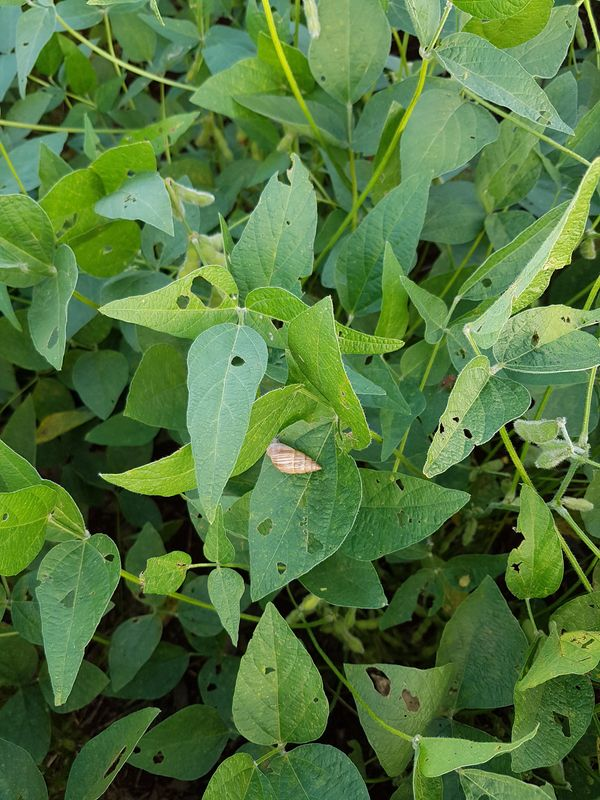Gastropoda: (255, 428, 331, 487)
